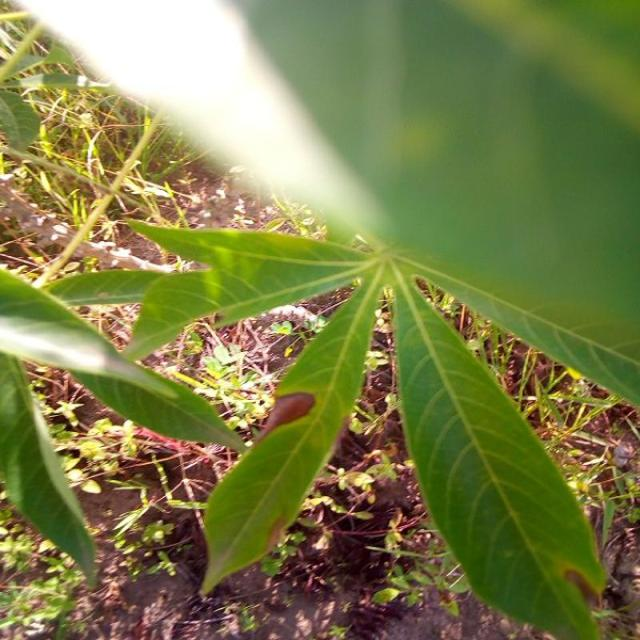cassava leaf: (390, 261, 608, 638), (198, 258, 383, 599), (0, 264, 247, 456), (0, 350, 98, 590)
